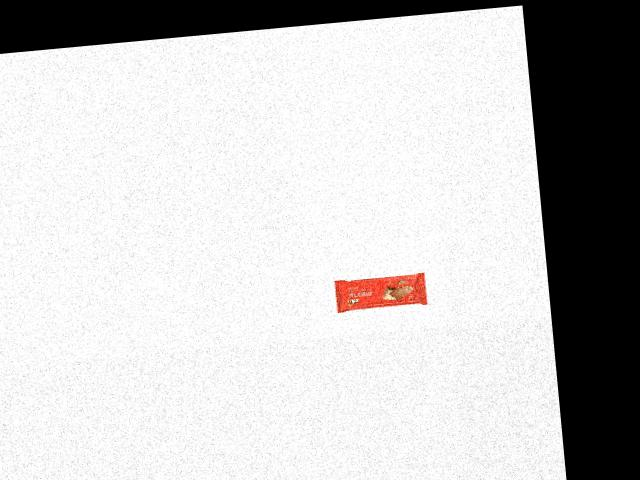chocolate: (330, 271, 426, 313)
